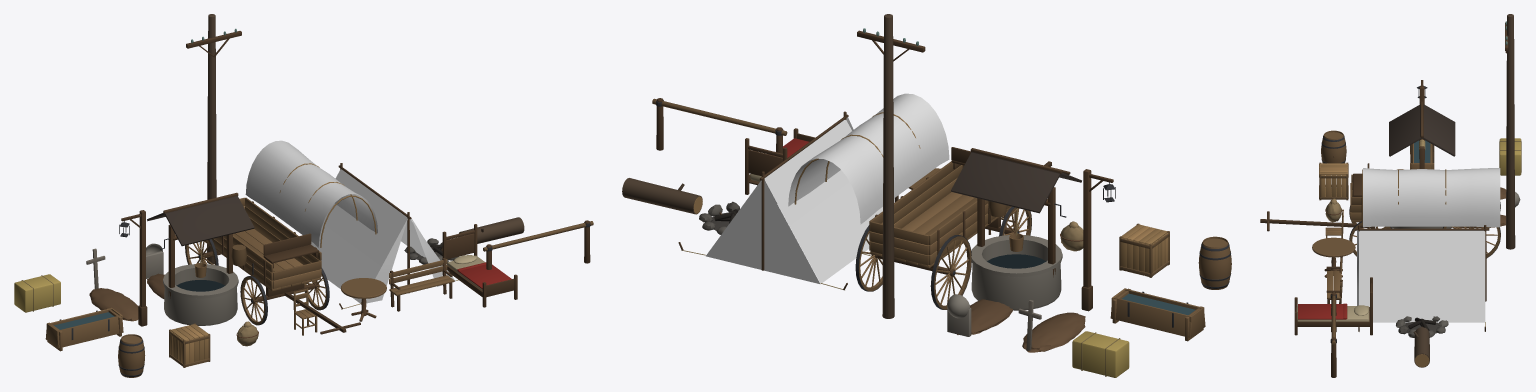
The model's file is props.fbx.
3 views of the same model, side by side, from view 1: azimuth 30°, elevation 25°; view 2: azimuth 150°, elevation 25°; view 3: azimuth 270°, elevation 25° (orthographic). The views are drawn at different scales.
Visible parts, largest first — view 1: wagon, well, tent, wagon_cover, bed, telegraph_pole, trough, bench, crate, haybale, grave_cross, lamppost (+6 smaller); view 2: tent, well, wagon, wagon_cover, telegraph_pole, trough, crate, haybale, grave_cross, grave_stone, logseat, lamppost (+5 smaller); view 3: tent, wagon_cover, well, telegraph_pole, bed, wagon, crate, table, barrel, campfire, logseat, haybale (+4 smaller).
Boxes of the visible parts, x1,y1,x2,y2 form: wagon: (185, 197, 360, 334); well: (147, 192, 254, 325); tent: (308, 163, 458, 309); wagon_cover: (245, 140, 377, 247); bed: (442, 224, 517, 307); telegraph_pole: (186, 14, 241, 263); trough: (45, 307, 123, 351); bench: (389, 258, 454, 311); crate: (169, 323, 210, 367); haybale: (14, 274, 60, 312); grave_cross: (86, 248, 138, 321); lamppost: (119, 210, 147, 326); tent: (678, 111, 882, 290); well: (951, 148, 1081, 310); wagon: (855, 147, 1070, 309); wagon_cover: (788, 93, 949, 224); telegraph_pole: (857, 14, 925, 318); trough: (1110, 288, 1205, 341); crate: (1119, 223, 1169, 277); haybale: (1072, 331, 1129, 377); grave_cross: (1018, 300, 1085, 352); grave_stone: (947, 294, 1012, 336); logseat: (622, 178, 702, 214); lamppost: (1081, 169, 1115, 311); tent: (1355, 225, 1489, 331); wagon_cover: (1362, 168, 1500, 227); well: (1389, 101, 1455, 228); telegraph_pole: (1505, 14, 1515, 249); bed: (1294, 277, 1372, 335); wagon: (1260, 163, 1500, 258); crate: (1319, 162, 1348, 200); table: (1312, 237, 1355, 277); barrel: (1321, 130, 1346, 163); campfire: (1396, 316, 1448, 337); logseat: (1413, 327, 1429, 367); haybale: (1499, 138, 1521, 175).
Bounding box in the file's own units: 13.6 × 6.54 × 6.62.
